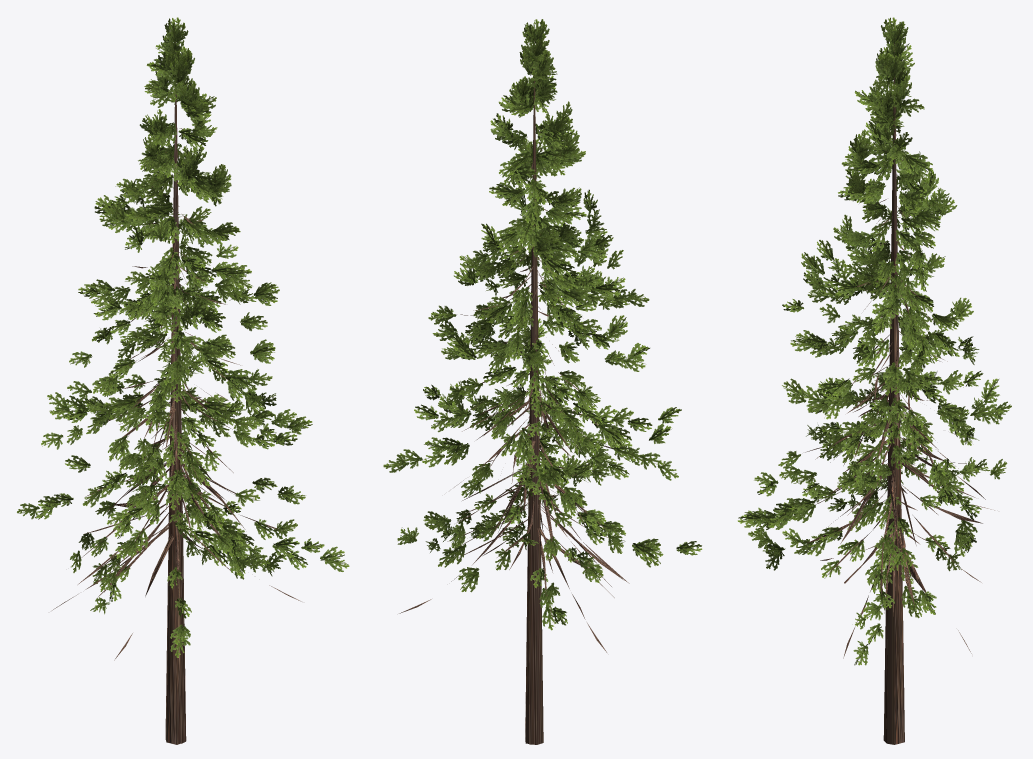
The model's file is pine_backup.glb.
3 views of the same model, side by side, from view 1: azimuth 30°, elevation 25°; view 2: azimuth 150°, elevation 25°; view 3: azimuth 270°, elevation 25° (orthographic).
Parts seen in each view (by area): view 1: Tree, Tree.001; view 2: Tree, Tree.001; view 3: Tree, Tree.001.
Boxes of the visible parts, box(x1,y1,x2,y2) form: Tree: box(17, 17, 349, 743); Tree.001: box(52, 42, 245, 744); Tree: box(383, 19, 702, 744); Tree.001: box(451, 42, 629, 744); Tree: box(737, 17, 1011, 744); Tree.001: box(820, 133, 994, 728).
Bounding box in the file's own units: 2.6 × 6.22 × 2.23.
Materials: 3 (3 with a texture image).
